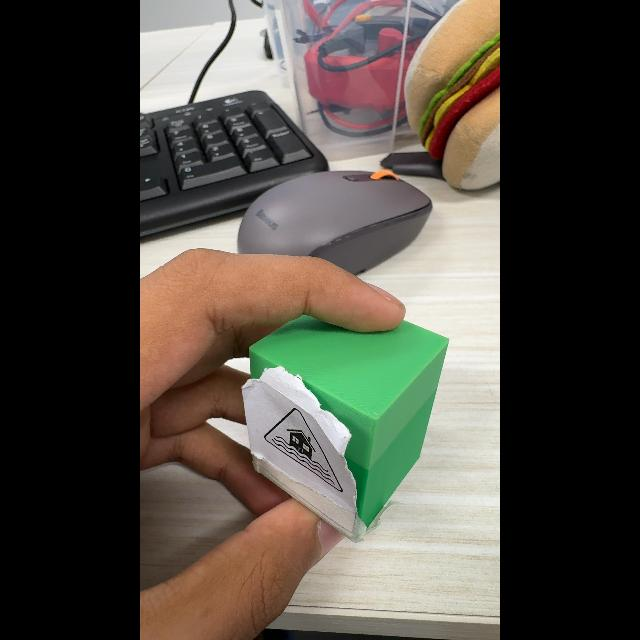Tsunami: (265, 409, 342, 491)
